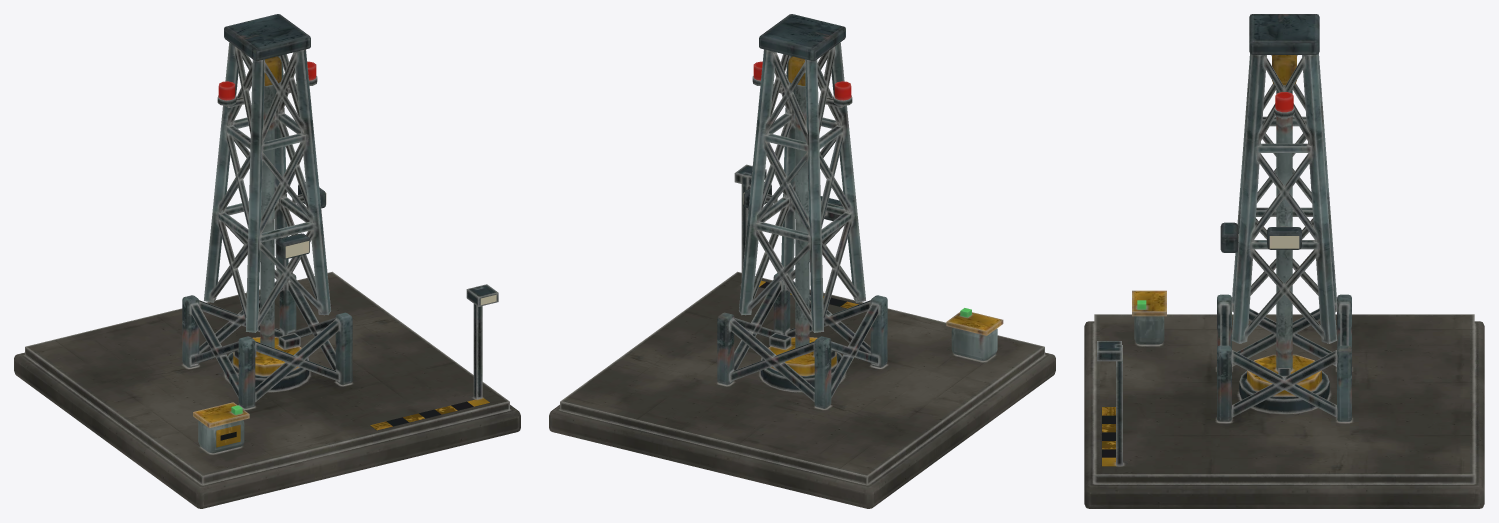
File: deep_drill.glb
The picture shows the model from 3 angles, left to right: view 1: azimuth 30°, elevation 25°; view 2: azimuth 150°, elevation 25°; view 3: azimuth 270°, elevation 25°; orthographic projection. The views are drawn at different scales.
Parts seen in each view (by area): view 1: te_deep_drill, move_drill; view 2: te_deep_drill, move_drill; view 3: te_deep_drill, move_drill.
Boxes of the visible parts, x1,y1,x2,y2 form: te_deep_drill: (14, 14, 520, 508); move_drill: (233, 84, 301, 375); te_deep_drill: (549, 14, 1055, 508); move_drill: (768, 84, 836, 375); te_deep_drill: (1084, 14, 1484, 508); move_drill: (1247, 85, 1321, 396).
Bounding box in the file's own units: 0.8 × 0.88 × 0.8.
1 material, 1 textured.
